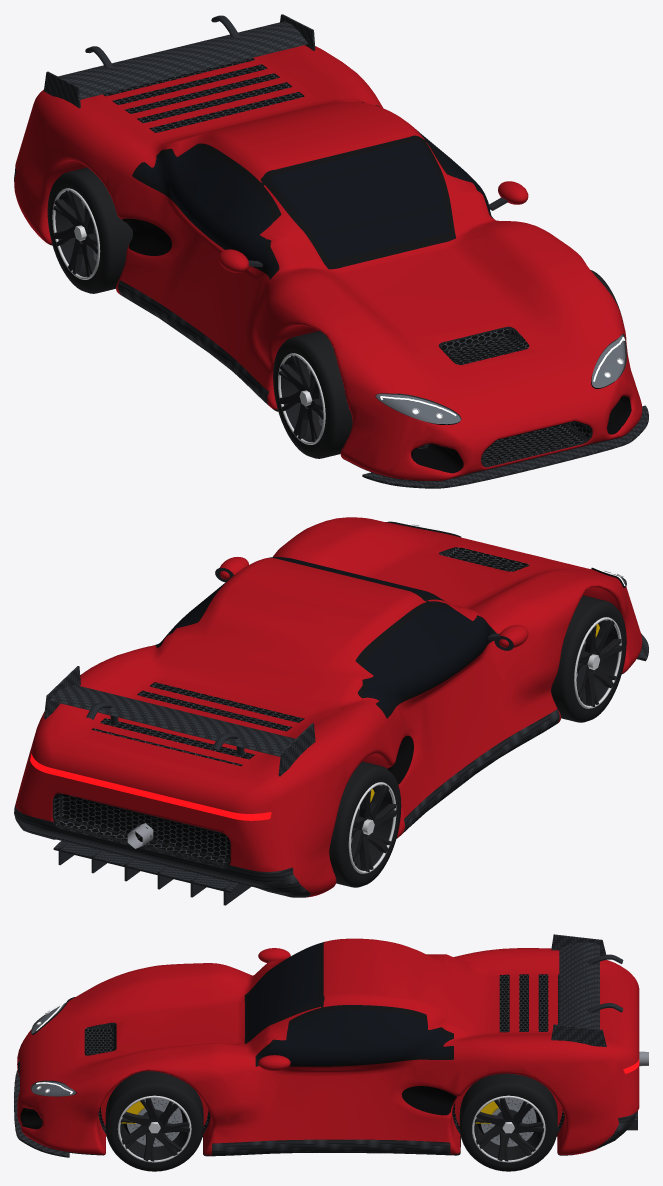
File: original_exotic_supercar_v10_source.glb
The picture shows the model from 3 angles, top to bottom: view 1: azimuth 30°, elevation 25°; view 2: azimuth 150°, elevation 25°; view 3: azimuth 270°, elevation 25°; orthographic projection. The views are drawn at different scales.
Parts seen in each view (by area): view 1: Body_Paint, Body_Glass, Intakes_And_Vents, Rear_Wing, Window_Trim, Wheel_RR_Tyre, Wheel_FR_Tyre, Intake_Walls, Front_Splitter, Wheel_RR_Rim, Wheel_FR_Rim, Body_Carbon (+4 smaller); view 2: Body_Paint, Intakes_And_Vents, Body_Glass, Body_Carbon, Rear_Wing, Wheel_FR_Tyre, Wheel_RR_Tyre, Wheel_FR_Rim, Wheel_RR_Rim, Window_Trim, Rear_Diffuser, Taillight_LEDs (+4 smaller); view 3: Body_Paint, Body_Glass, Rear_Wing, Wheel_FL_Tyre, Wheel_RL_Tyre, Intakes_And_Vents, Body_Carbon, Window_Trim, Wheel_FL_Rim, Wheel_RL_Rim, Intake_Walls, Wheel_RL_BrakeDisc (+7 smaller).
Boxes of the visible parts, x1=… form: Body_Paint: x1=14, y1=45, x2=642, y2=480; Body_Glass: x1=138, y1=134, x2=491, y2=272; Intakes_And_Vents: x1=49, y1=58, x2=623, y2=481; Rear_Wing: x1=44, y1=14, x2=315, y2=108; Window_Trim: x1=132, y1=101, x2=493, y2=279; Wheel_RR_Tyre: x1=47, y1=167, x2=132, y2=293; Wheel_FR_Tyre: x1=273, y1=331, x2=352, y2=458; Intake_Walls: x1=122, y1=218, x2=631, y2=473; Front_Splitter: x1=362, y1=405, x2=648, y2=488; Wheel_RR_Rim: x1=53, y1=190, x2=97, y2=276; Wheel_FR_Rim: x1=278, y1=355, x2=323, y2=441; Body_Carbon: x1=14, y1=167, x2=621, y2=480; Body_Paint: x1=15, y1=517, x2=642, y2=897; Intakes_And_Vents: x1=52, y1=547, x2=623, y2=867; Body_Glass: x1=155, y1=557, x2=492, y2=712; Body_Carbon: x1=14, y1=709, x2=559, y2=897; Rear_Wing: x1=44, y1=666, x2=315, y2=776; Wheel_FR_Tyre: x1=551, y1=595, x2=626, y2=722; Wheel_RR_Tyre: x1=329, y1=761, x2=401, y2=887; Wheel_FR_Rim: x1=576, y1=620, x2=621, y2=706; Wheel_RR_Rim: x1=351, y1=784, x2=396, y2=871; Window_Trim: x1=156, y1=557, x2=496, y2=718; Rear_Diffuser: x1=53, y1=841, x2=239, y2=892; Taillight_LEDs: x1=30, y1=753, x2=271, y2=820; Body_Paint: x1=17, y1=938, x2=639, y2=1155; Body_Glass: x1=250, y1=944, x2=450, y2=1063; Rear_Wing: x1=551, y1=934, x2=623, y2=1046; Wheel_FL_Tyre: x1=105, y1=1071, x2=203, y2=1171; Wheel_RL_Tyre: x1=459, y1=1073, x2=557, y2=1171; Intakes_And_Vents: x1=18, y1=974, x2=576, y2=1156; Body_Carbon: x1=212, y1=1111, x2=637, y2=1155; Window_Trim: x1=244, y1=942, x2=453, y2=1066; Wheel_FL_Rim: x1=120, y1=1098, x2=189, y2=1161; Wheel_RL_Rim: x1=474, y1=1098, x2=544, y2=1161; Intake_Walls: x1=20, y1=1086, x2=456, y2=1129; Wheel_RL_BrakeDisc: x1=481, y1=1098, x2=536, y2=1146.
Size of the model in its own units: 2.01 by 1.22 by 4.66.
16 materials, 3 textured.
